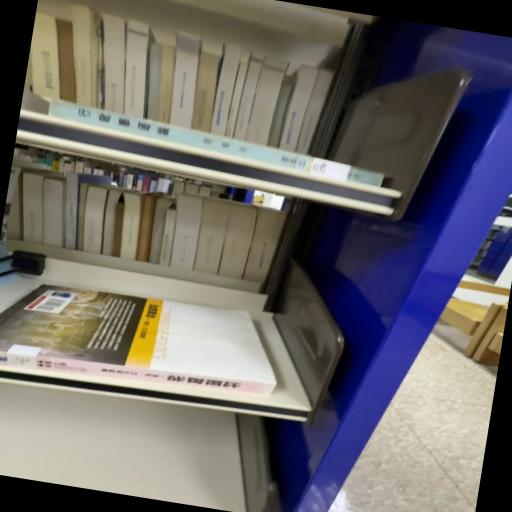flat: (1, 285, 276, 395), (49, 101, 385, 189)
